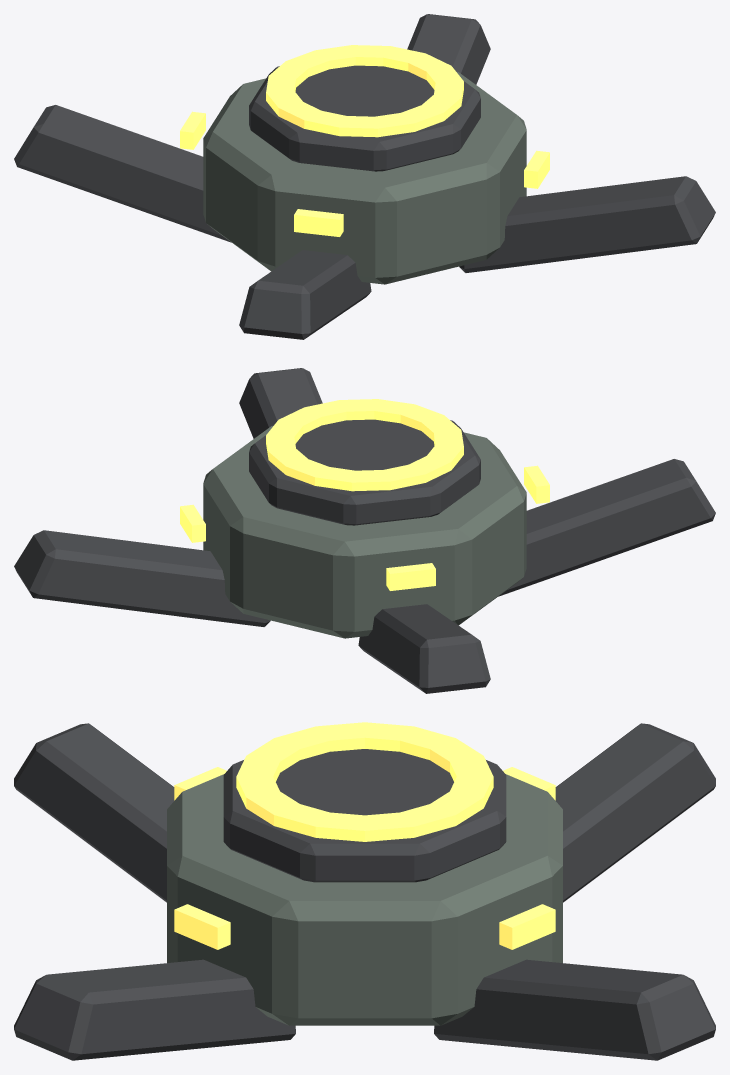
The model's file is heatsinkWeaponMine.10baedc3.glb.
3 renders of one model, top to bottom at view 1: azimuth 30°, elevation 25°; view 2: azimuth 150°, elevation 25°; view 3: azimuth 270°, elevation 25°, orthographic. The views are drawn at different scales.
Visible parts, largest first — view 1: weapon_mine; view 2: weapon_mine; view 3: weapon_mine.
Part boxes in pixels (x1,y1,x2,y2): weapon_mine: (14, 14, 715, 339); weapon_mine: (14, 368, 715, 693); weapon_mine: (14, 722, 715, 1060).
Bounding box in the file's own units: 2.29 × 0.7502 × 2.29.
